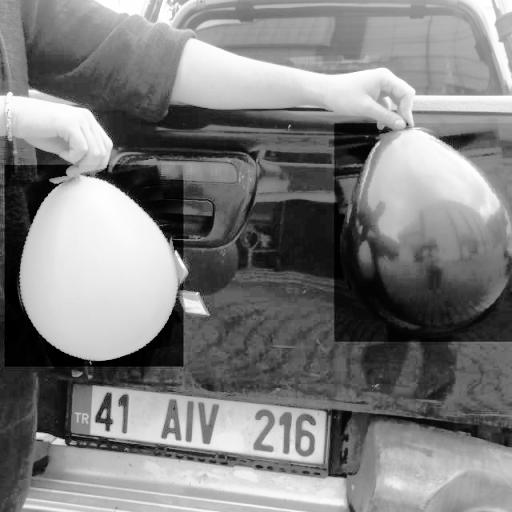balloon: (334, 123, 512, 342), (5, 165, 183, 366)
